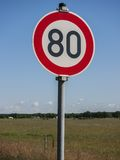Speed_limit_80km: (33, 11, 95, 76)
